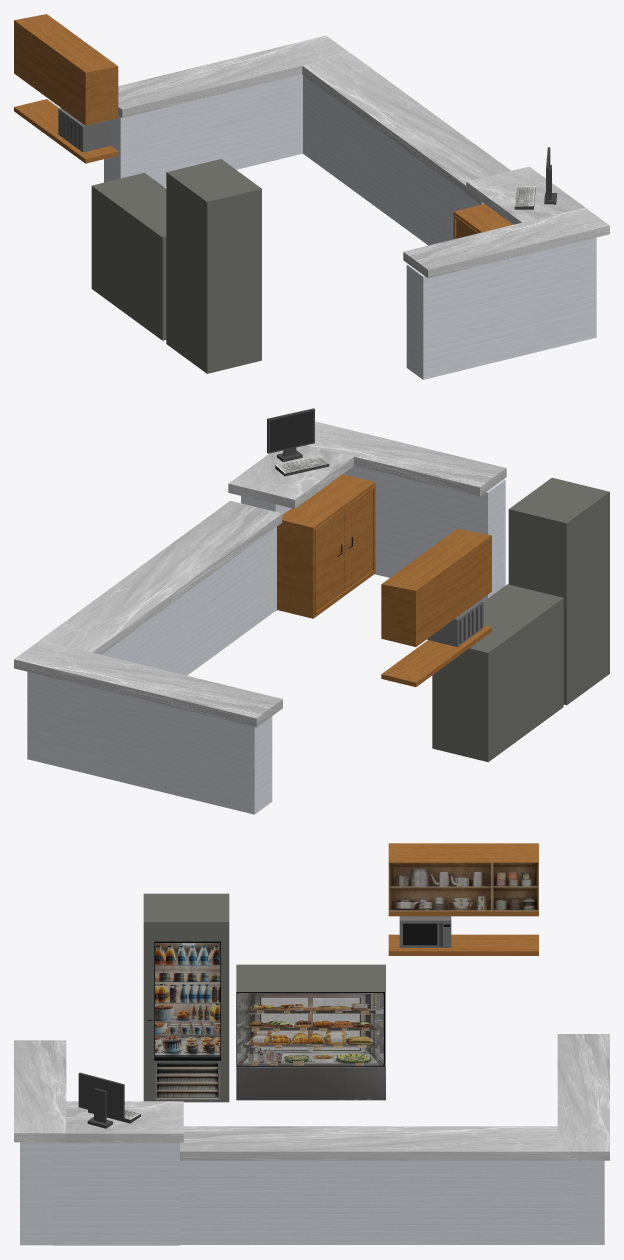
The model's file is cafeteria__bakery (1).glb.
3 renders of one model, top to bottom at view 1: azimuth 30°, elevation 25°; view 2: azimuth 150°, elevation 25°; view 3: azimuth 270°, elevation 25°, orthographic. The views are drawn at different scales.
Visible parts, largest first — view 1: bancada_1, geladeira_3, expositorComidas_2, prateleira.001_10, prateleira_9, Microwaves_01_RGB_texture_0_4, armario_11, computador_0; view 2: bancada_1, expositorComidas_2, geladeira_3, armario_11, prateleira.001_10, computador_0, prateleira_9, Microwaves_01_RGB_texture_0_4; view 3: bancada_1, expositorComidas_2, geladeira_3, prateleira.001_10, prateleira_9, computador_0, Microwaves_01_RGB_texture_0_4.
Boxes of the visible parts, x1=… form: bancada_1: x1=104, y1=35, x2=609, y2=379; geladeira_3: x1=166, y1=159, x2=261, y2=373; expositorComidas_2: x1=91, y1=172, x2=166, y2=340; prateleira.001_10: x1=14, y1=14, x2=118, y2=125; prateleira_9: x1=14, y1=99, x2=118, y2=163; Microwaves_01_RGB_texture_0_4: x1=58, y1=108, x2=111, y2=152; armario_11: x1=453, y1=204, x2=512, y2=238; computador_0: x1=514, y1=147, x2=556, y2=209; bancada_1: x1=14, y1=421, x2=506, y2=814; expositorComidas_2: x1=432, y1=584, x2=563, y2=762; geladeira_3: x1=508, y1=477, x2=609, y2=705; armario_11: x1=277, y1=474, x2=375, y2=618; prateleira.001_10: x1=381, y1=529, x2=491, y2=646; computador_0: x1=267, y1=408, x2=329, y2=476; prateleira_9: x1=381, y1=625, x2=491, y2=687; Microwaves_01_RGB_texture_0_4: x1=427, y1=600, x2=483, y2=646; bancada_1: x1=14, y1=1034, x2=609, y2=1245; expositorComidas_2: x1=236, y1=964, x2=385, y2=1100; geladeira_3: x1=143, y1=893, x2=229, y2=1102; prateleira.001_10: x1=388, y1=843, x2=538, y2=916; prateleira_9: x1=388, y1=934, x2=538, y2=955; computador_0: x1=78, y1=1072, x2=140, y2=1128; Microwaves_01_RGB_texture_0_4: x1=399, y1=916, x2=451, y2=947.
Bounding box in the file's own units: 4.22 × 2.54 × 5.98.
15 materials, 9 textured.
